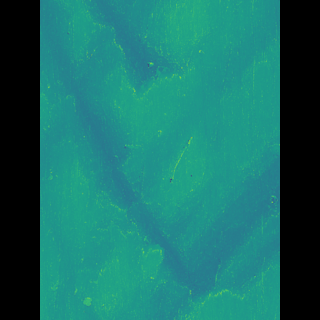Loch: (100, 101, 187, 290), (168, 131, 249, 320), (99, 0, 219, 93)
